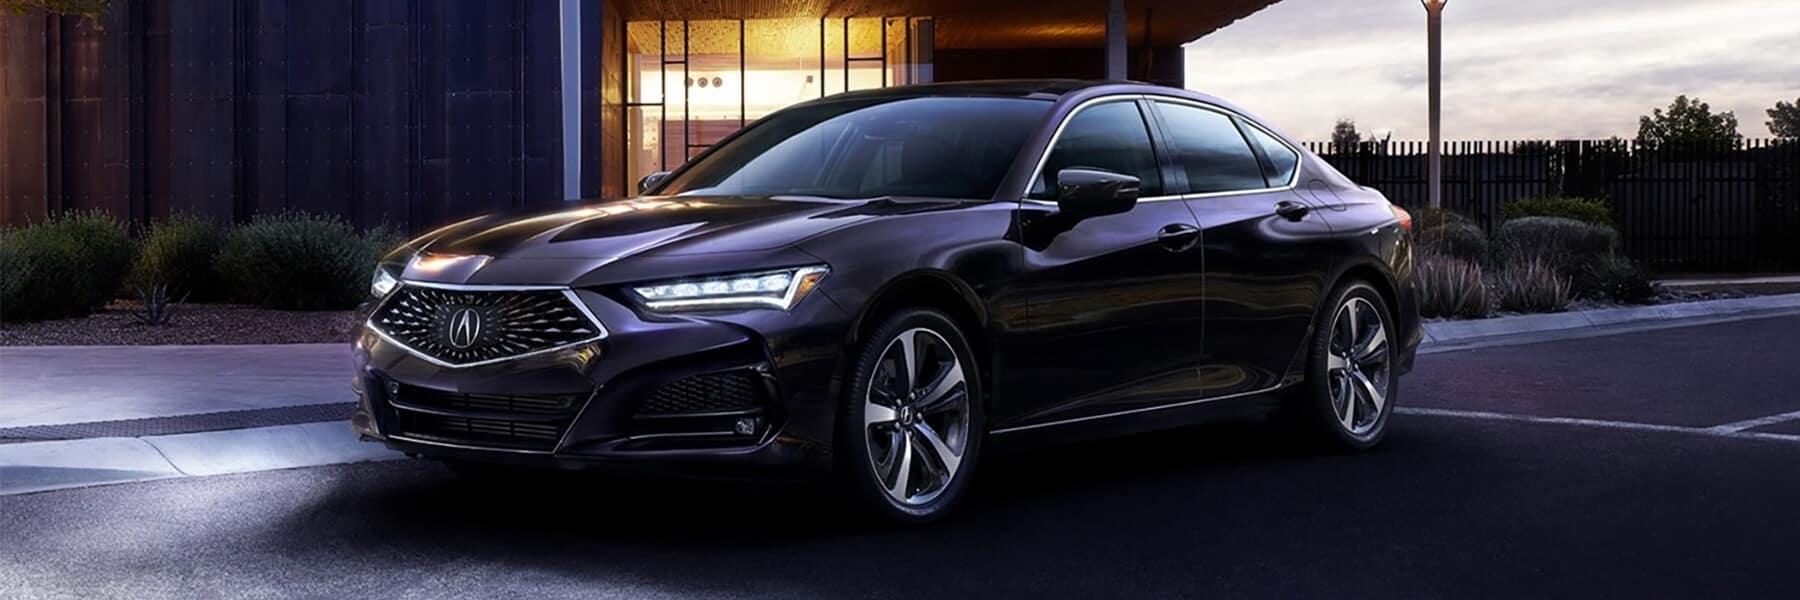car: (343, 72, 1437, 529)
